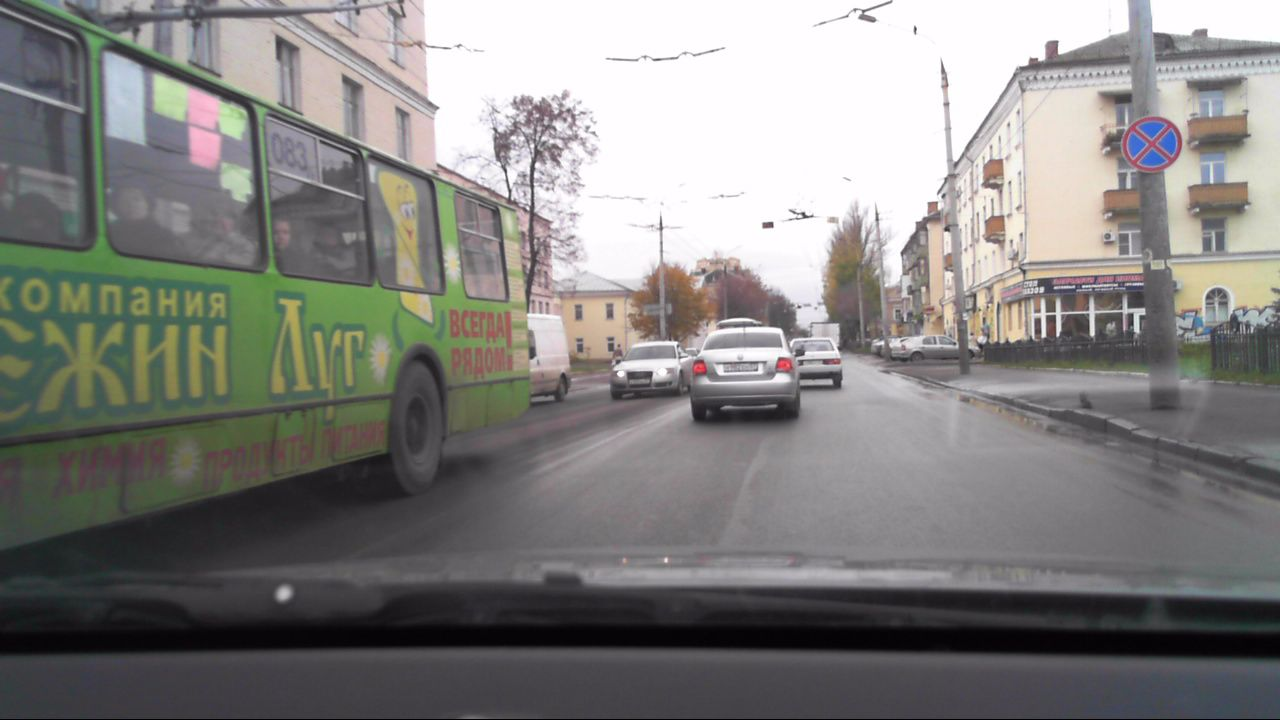No Parking: (1119, 112, 1185, 176)
